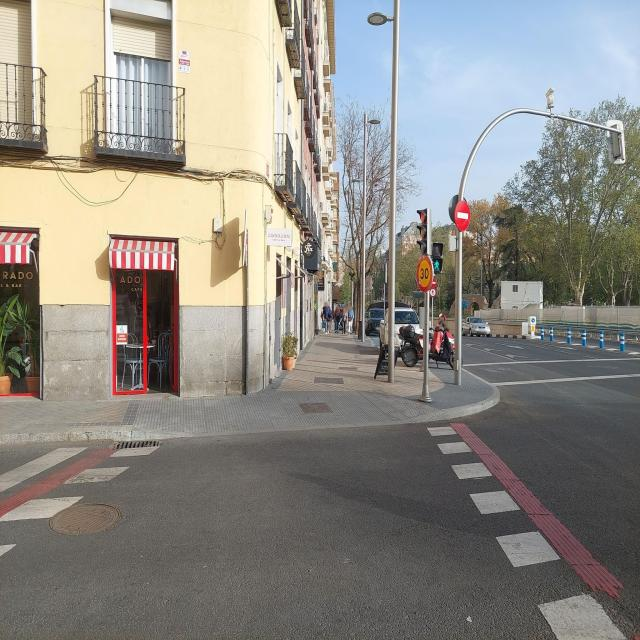bike: (398, 314, 458, 370)
car: (379, 308, 421, 357), (462, 316, 492, 337), (365, 308, 385, 336)
